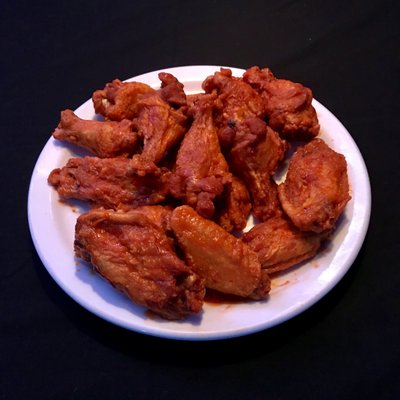curry: (4, 41, 400, 398)
